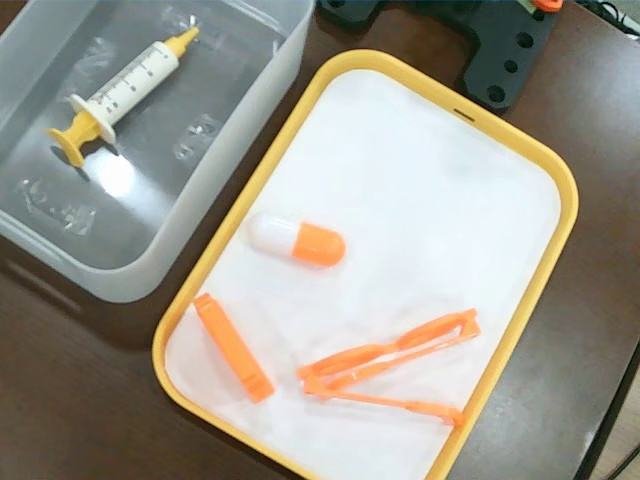pill: (245, 210, 349, 270)
syringe: (49, 24, 201, 168)
